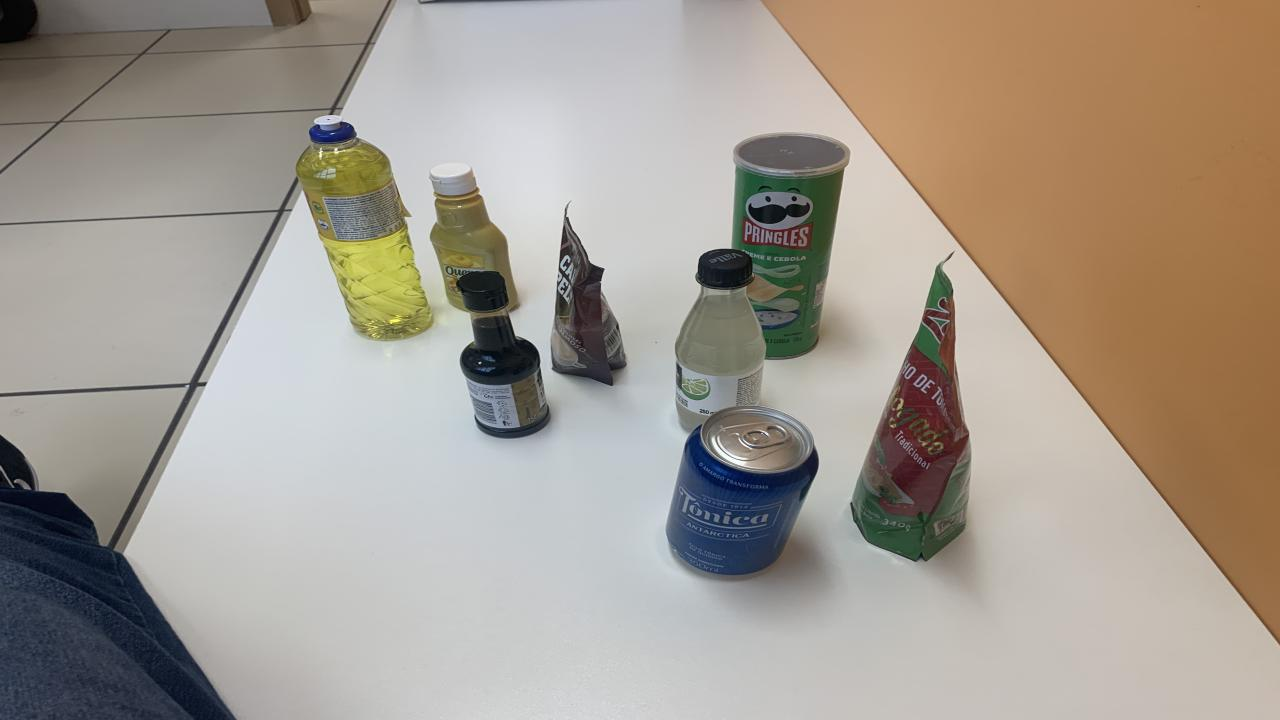Coffee-Pantry_Items: (550, 208, 625, 384)
Detergent-Cleanup_Items: (295, 116, 432, 339)
English_Sauce-Pantry_Items: (458, 272, 550, 439)
Mustard-Pantry_Items: (430, 163, 518, 308)
Pringles-Snacks: (732, 133, 850, 358)
Soda-Drinks: (675, 249, 765, 431)
Tomato_Sauce-Pantry_Items: (850, 261, 970, 561)
Tonic-Drinks: (668, 405, 820, 576)
